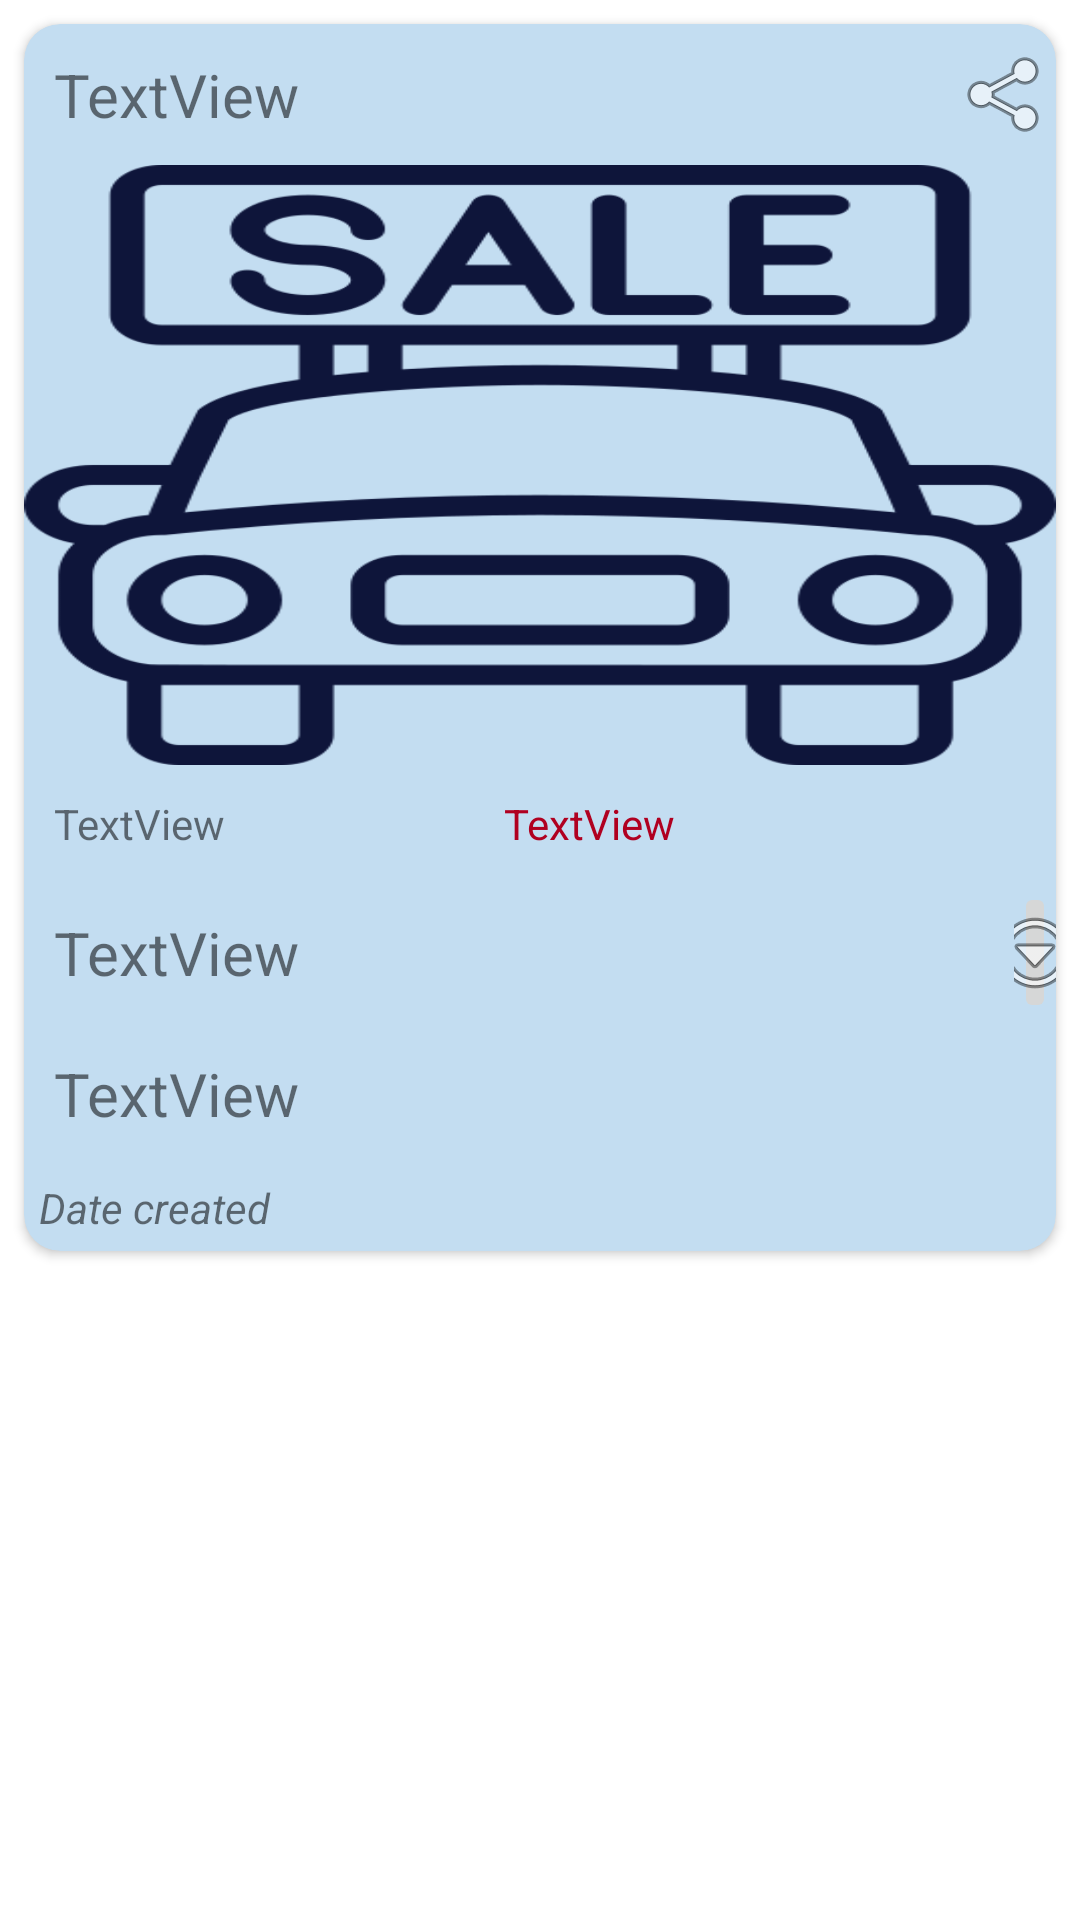

Icon click points for this 1080x1920 phone screenshot, format point (x, y):
more: point (1035, 952)
share: point (1008, 94)
